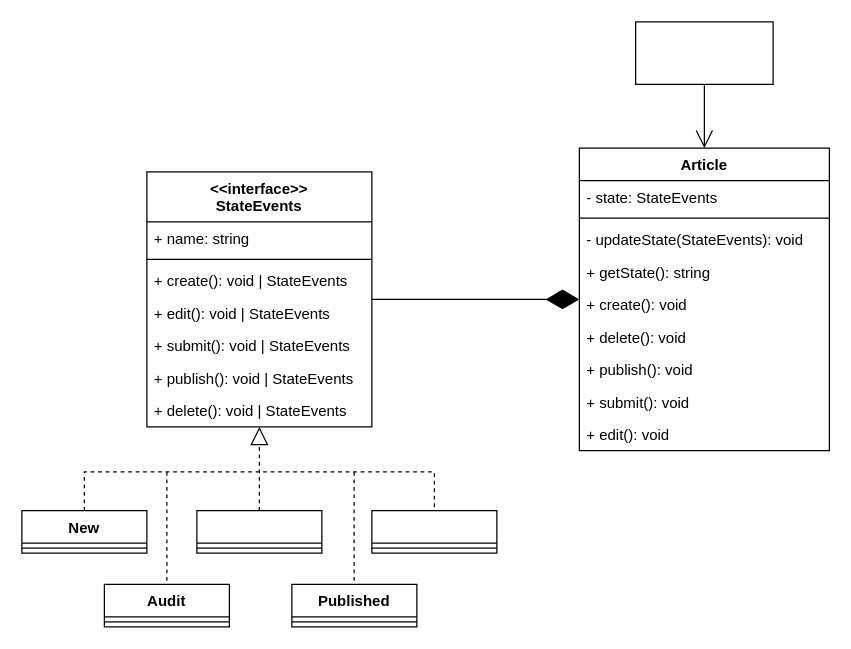
Image size: 851x649. Some labels were removed from this diagram. The shapes that lost their labels are listed below. From the top down, each one's centre as x and y in pixels, then its label:
At point 703,52: "Client".
At point 259,531: "Created".
At point 434,531: "Editing".
